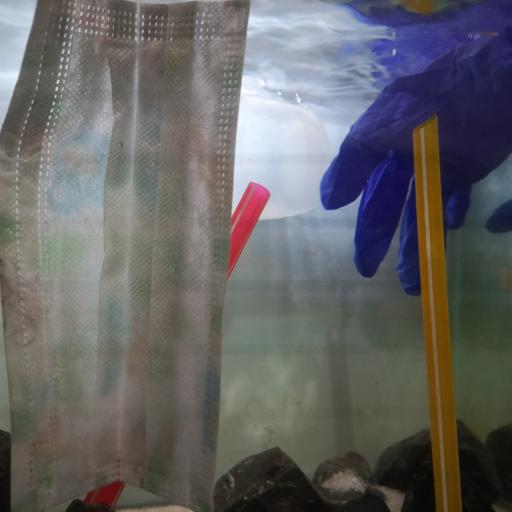glove: (316, 44, 512, 301)
mask: (0, 0, 244, 512)
plastic_straw: (412, 112, 468, 512)
